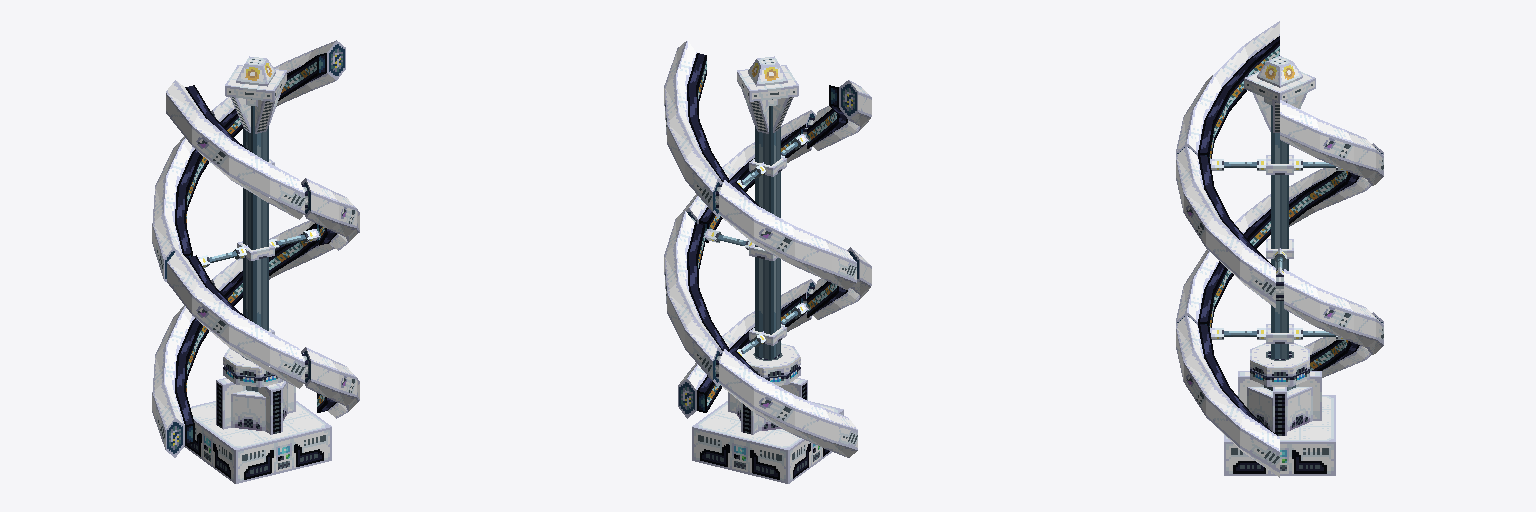
3 views of the same model, side by side, from view 1: azimuth 30°, elevation 25°; view 2: azimuth 150°, elevation 25°; view 3: azimuth 270°, elevation 25° (orthographic).
Visible parts, largest first — view 1: torus, torus.001, cube.004, cube.007, cube.001, cube.013, cube.003, cube.002, cube.014, cylinder.001, cylinder; view 2: torus, torus.001, cube.004, cube.007, cube.013, cylinder.001, cube.014; view 3: torus, torus.001, cube.004, cube.007, cube.001, cylinder.001, cube.013, cube.002, cube.014, cube.003, cylinder.
Boxes of the visible parts, x1,y1,x2,y2 form: torus: [152, 80, 359, 457]; torus.001: [152, 40, 359, 418]; cube.004: [184, 401, 331, 483]; cube.007: [243, 106, 268, 330]; cube.001: [231, 381, 287, 431]; cube.013: [225, 65, 286, 101]; cube.003: [216, 378, 295, 429]; cube.002: [258, 384, 282, 434]; cube.014: [236, 56, 275, 83]; cylinder.001: [223, 348, 270, 376]; cylinder: [223, 366, 282, 387]; torus: [664, 80, 871, 457]; torus.001: [664, 41, 871, 418]; cube.004: [692, 401, 843, 483]; cube.007: [755, 106, 780, 359]; cube.013: [737, 65, 798, 101]; cylinder.001: [741, 343, 800, 376]; cube.014: [748, 56, 787, 83]; torus: [1176, 21, 1383, 377]; torus.001: [1176, 100, 1383, 477]; cube.004: [1224, 395, 1335, 475]; cube.007: [1271, 105, 1288, 358]; cube.001: [1247, 387, 1312, 431]; cylinder.001: [1250, 343, 1309, 375]; cube.013: [1244, 71, 1315, 103]; cube.002: [1238, 371, 1321, 420]; cube.014: [1257, 56, 1302, 85]; cube.003: [1273, 387, 1286, 435]; cylinder: [1250, 369, 1309, 386].
Bounding box in the file's own units: 5.6 × 11.6 × 5.6.
1 materials, 1 textured.